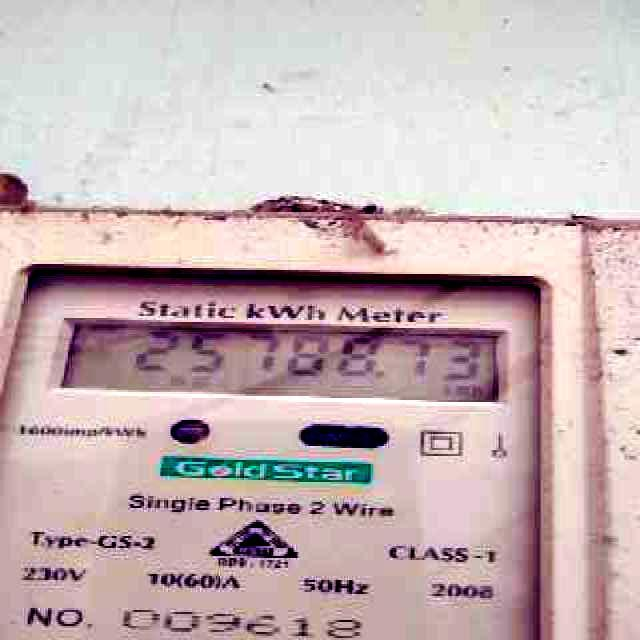LCD: (52, 310, 520, 415)
